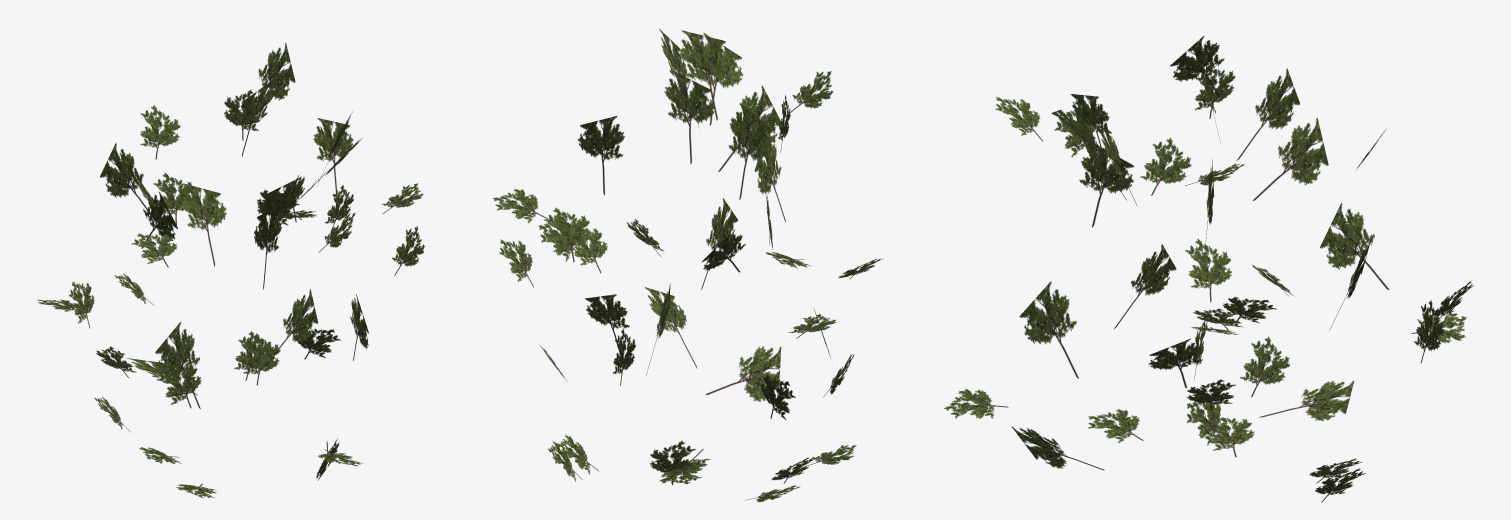
The model's file is conifer_shrub_0_lod2.glb.
3 renders of one model, left to right at view 1: azimuth 30°, elevation 25°; view 2: azimuth 150°, elevation 25°; view 3: azimuth 270°, elevation 25°, orthographic. The views are drawn at different scales.
Parts seen in each view (by area): view 1: ConiferousShrub; view 2: ConiferousShrub; view 3: ConiferousShrub.
Boxes of the visible parts, bbox=[...] form: ConiferousShrub: bbox=[37, 43, 425, 497]; ConiferousShrub: bbox=[492, 28, 883, 502]; ConiferousShrub: bbox=[944, 36, 1473, 502].
Size of the model in its own units: 8.36 by 9.82 by 9.9.
Materials: 1 (1 with a texture image).
